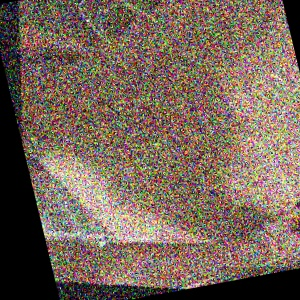stradivarius: (9, 35, 300, 179)
